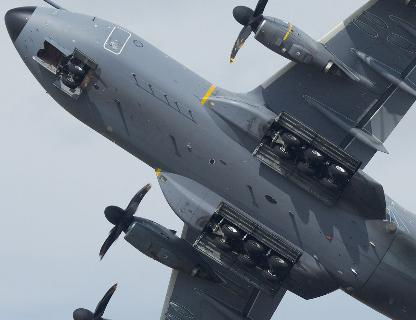A400M: (3, 0, 415, 317)
